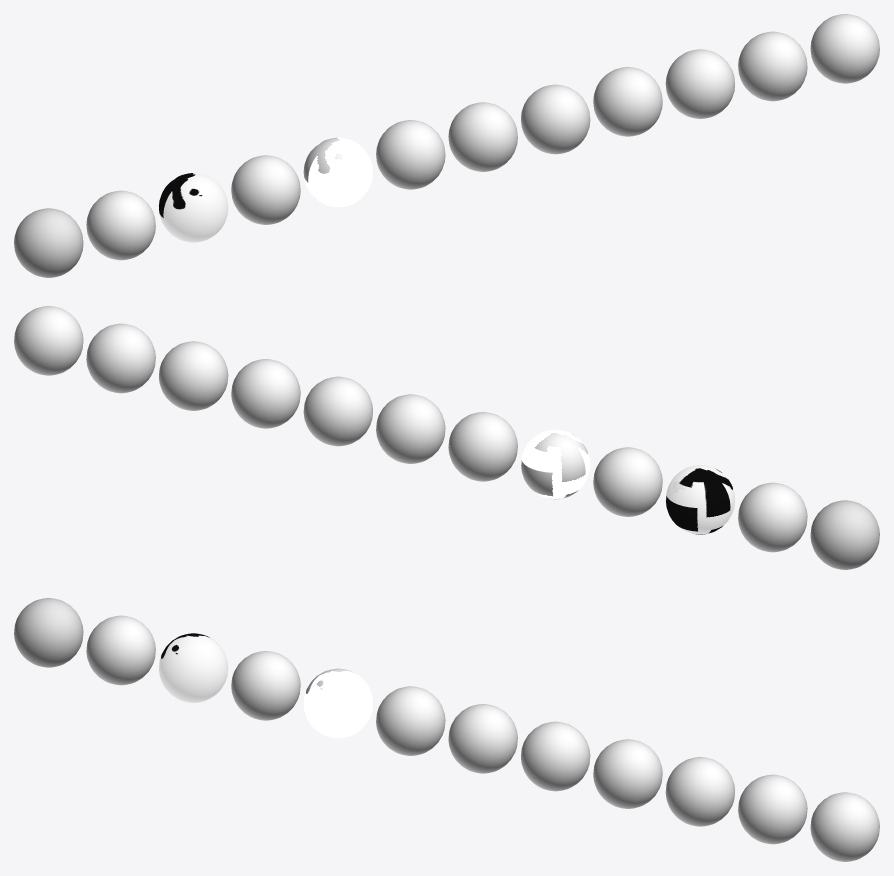
3 views of the same model, one above another, from view 1: azimuth 30°, elevation 25°; view 2: azimuth 150°, elevation 25°; view 3: azimuth 330°, elevation 25° (orthographic).
Visible parts, largest first — view 1: Sphere; view 2: Sphere; view 3: Sphere.
Part boxes in pixels (box(x1,y1,x2,y2)): Sphere: box(14, 14, 879, 277); Sphere: box(14, 306, 879, 569); Sphere: box(14, 598, 879, 861).
Bounding box in the file's own units: 28.4 × 2 × 2.
Materials: 12 (1 with a texture image).
